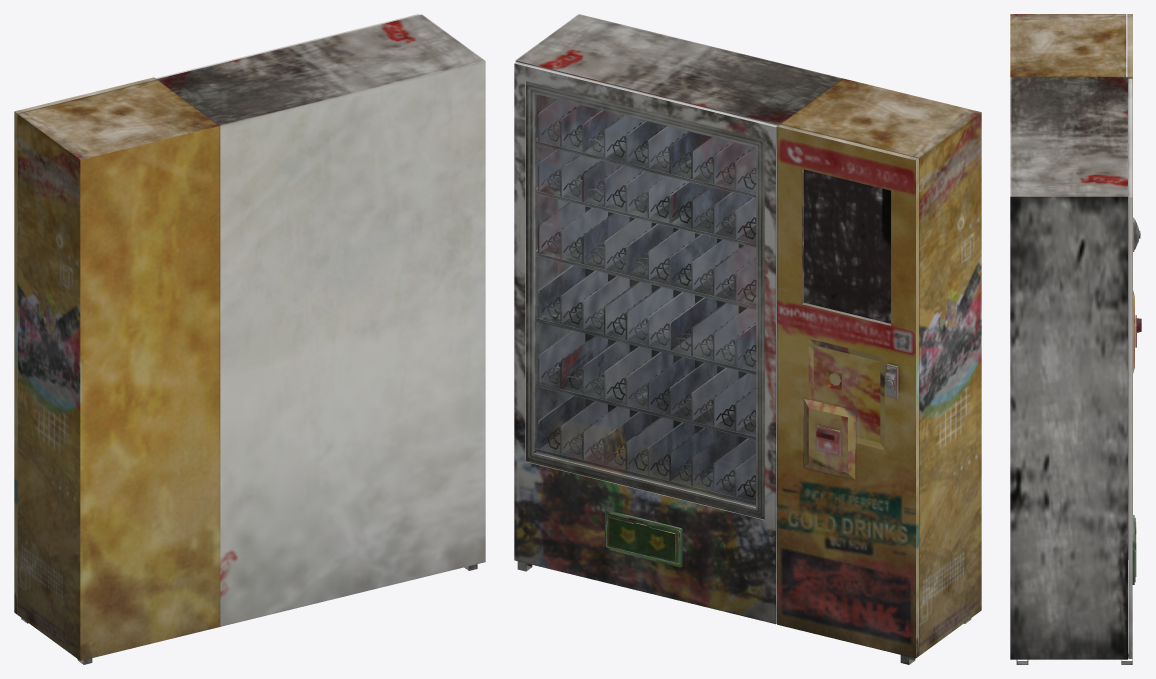
File: dirty_vending_machine.glb
3 views of the same model, side by side, from view 1: azimuth 30°, elevation 25°; view 2: azimuth 150°, elevation 25°; view 3: azimuth 270°, elevation 25° (orthographic). The views are drawn at different scales.
Parts seen in each view (by area): view 1: polySurface1175_lambert1_0.002; view 2: polySurface1175_lambert1_0.002; view 3: polySurface1175_lambert1_0.002.
Part boxes in pixels (<box>): polySurface1175_lambert1_0.002: <box>14,14,485,664</box>; polySurface1175_lambert1_0.002: <box>514,14,981,664</box>; polySurface1175_lambert1_0.002: <box>1010,14,1141,664</box>.
Bounding box in the file's own units: 1.83 × 2.19 × 0.5544.
1 material, 1 textured.
